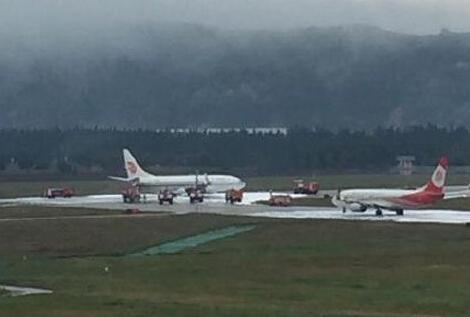airplane: (110, 149, 255, 203), (322, 159, 453, 217)
